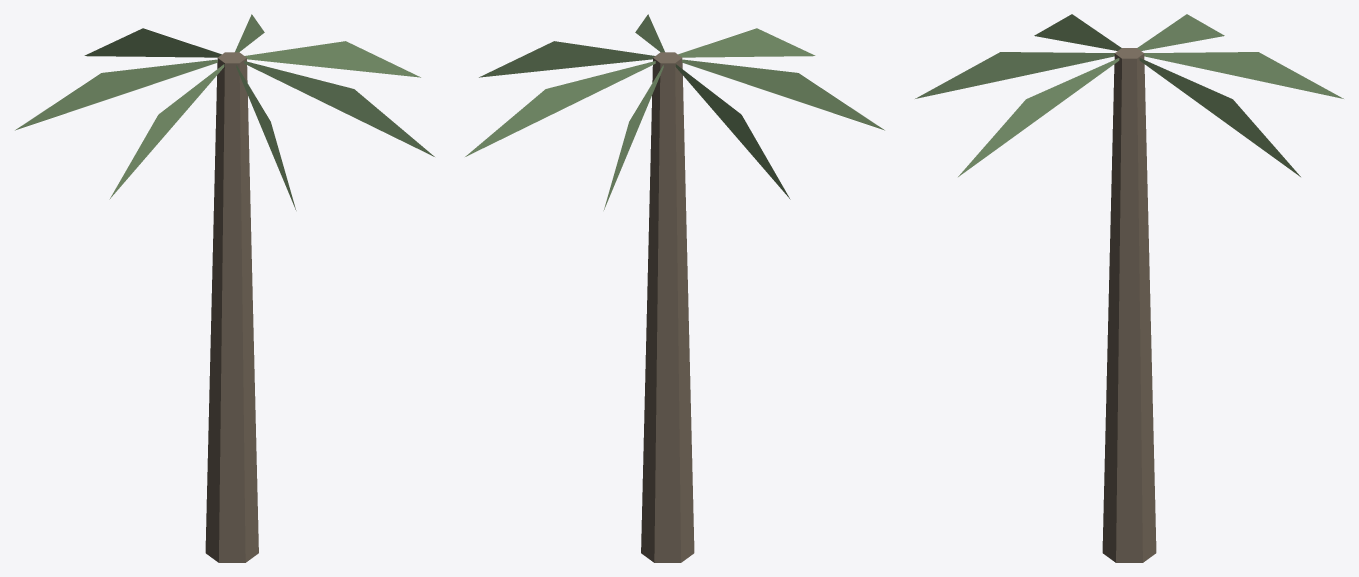
Rendered from lqv_lowpoly_tree_palmera.glb.
The picture shows the model from 3 angles, left to right: view 1: azimuth 30°, elevation 25°; view 2: azimuth 150°, elevation 25°; view 3: azimuth 270°, elevation 25°; orthographic projection.
Parts seen in each view (by area): view 1: Palmera_trunk, Frond_3, Frond_6, Frond_0, Frond_2, Frond_4, Frond_5; view 2: Palmera_trunk, Frond_4, Frond_1, Frond_0, Frond_5, Frond_3, Frond_2; view 3: Palmera_trunk, Frond_2, Frond_5, Frond_1, Frond_6, Frond_3, Frond_4.
Boxes of the visible parts, left/top/right/bottom form: Palmera_trunk: left=205, top=52, right=258, bottom=562; Frond_3: left=15, top=59, right=217, bottom=130; Frond_6: left=244, top=61, right=434, bottom=156; Frond_0: left=245, top=41, right=420, bottom=77; Frond_2: left=84, top=28, right=221, bottom=57; Frond_4: left=109, top=64, right=224, bottom=199; Frond_5: left=236, top=65, right=296, bottom=210; Palmera_trunk: left=641, top=52, right=694, bottom=562; Frond_4: left=682, top=59, right=884, bottom=130; Frond_1: left=465, top=61, right=655, bottom=156; Frond_0: left=479, top=41, right=654, bottom=77; Frond_5: left=678, top=28, right=815, bottom=57; Frond_3: left=675, top=64, right=790, bottom=199; Frond_2: left=603, top=65, right=663, bottom=210; Palmera_trunk: left=1102, top=48, right=1156, bottom=562; Frond_2: left=1144, top=52, right=1343, bottom=98; Frond_5: left=915, top=52, right=1114, bottom=98; Frond_1: left=1139, top=58, right=1300, bottom=176; Frond_6: left=958, top=58, right=1119, bottom=176; Frond_3: left=1137, top=14, right=1224, bottom=50; Frond_4: left=1034, top=14, right=1121, bottom=50.
Bounding box in the file's own units: 3.42 × 4.5 × 3.51.
